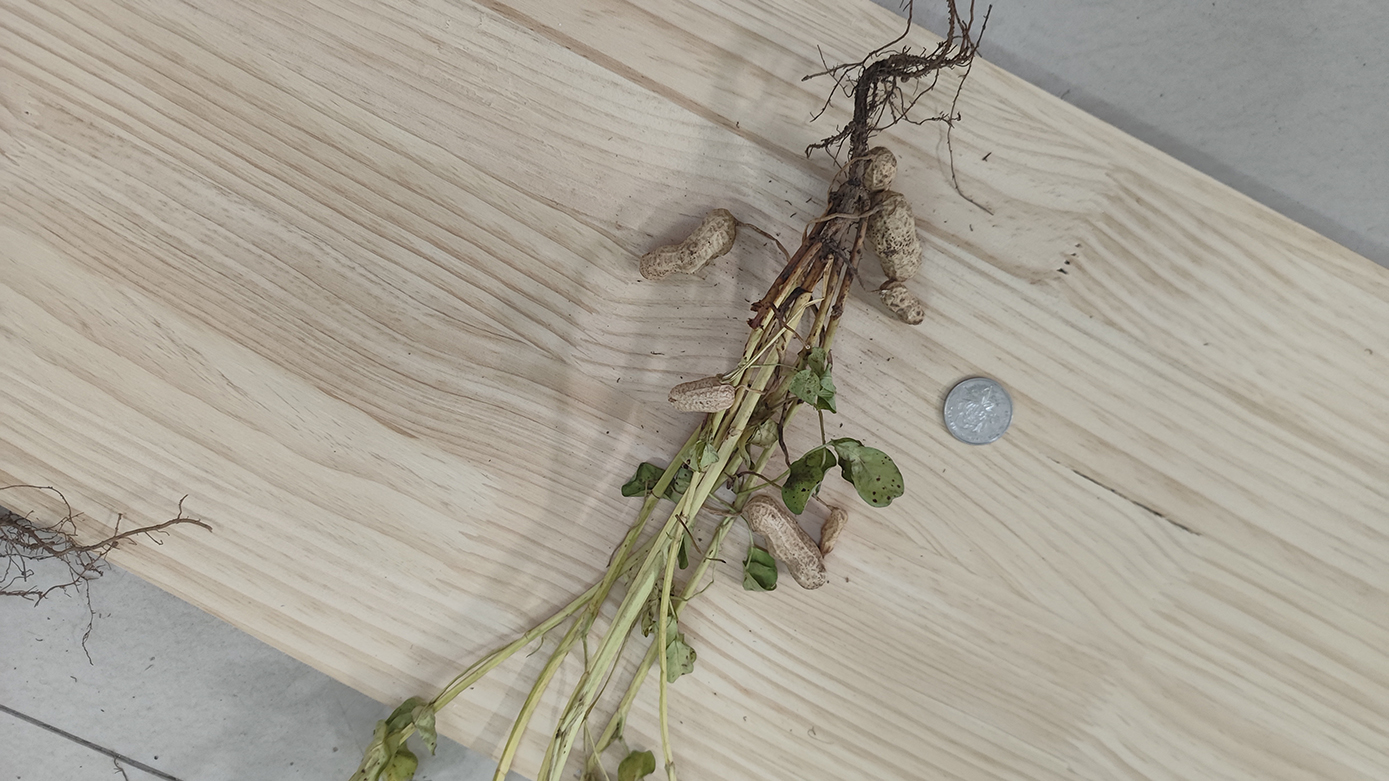h: (748, 495, 826, 590), (638, 209, 737, 281), (871, 191, 923, 283), (668, 378, 736, 412), (879, 280, 924, 324), (865, 145, 900, 192)
l: (820, 506, 846, 553)
